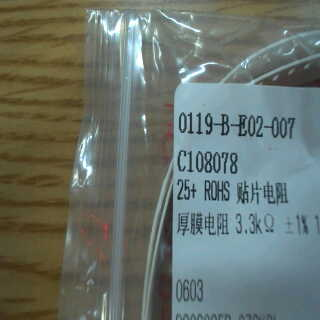3.3kO: (233, 210, 278, 237)
